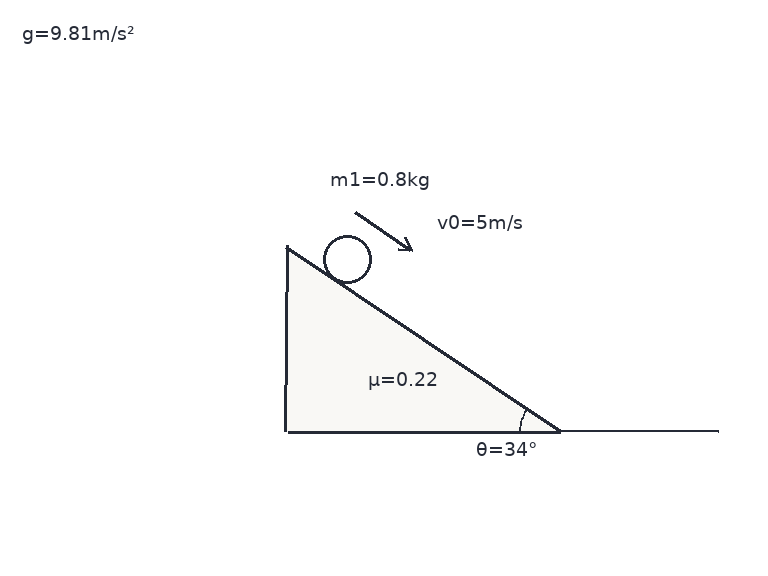ball: (321, 233, 373, 285)
ramp: (284, 244, 562, 433)
